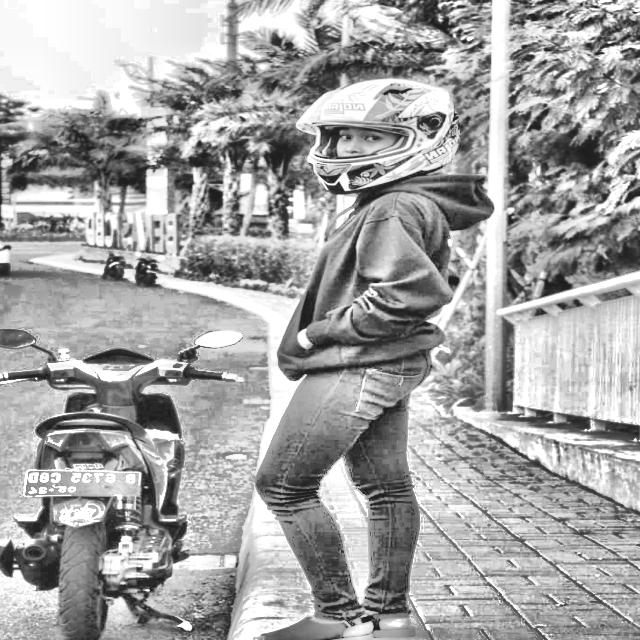Helmet: (288, 77, 462, 200)
